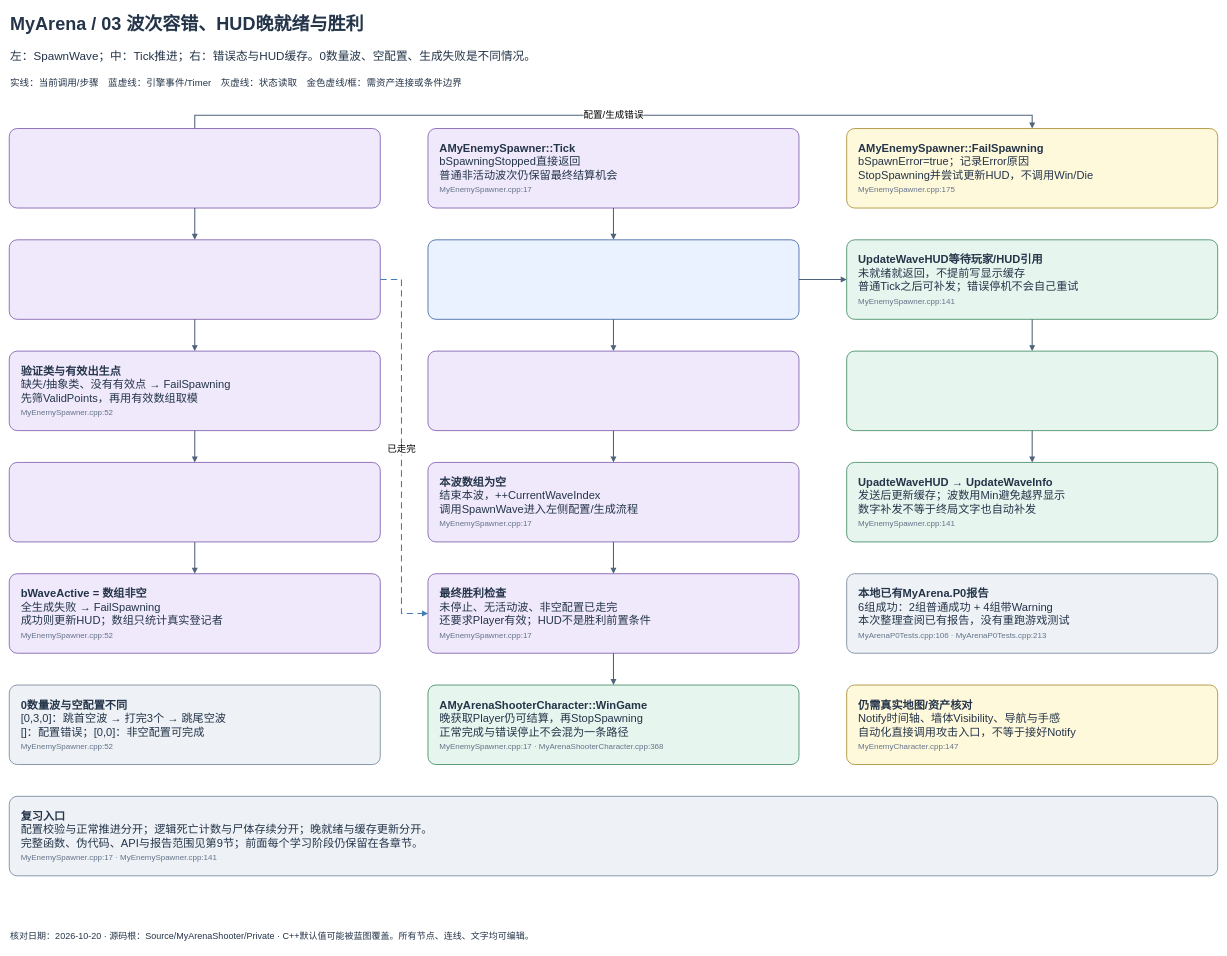
Some shapes in this 1227 by 956 pixel diagram are drawn without their labels. Each missing label, with the centre of its shape:
"AMyEnemySpawner::SpawnWave 已停止就返回；Waves为空报错 其余按配置依次校验与生成 MyEnemySpawner.cpp:52" goes at point 194,168.
"CleanupDeadEnemies（本波活动时） 倒序删除无效 / IsDead引用 循环后统一请求HUD更新 MyEnemySpawner.cpp:124" goes at point 613,390.
"while迭代跳过EnemyCount=0 配置非空且全部走完：返回后由Tick结算 负数量是错误，不作为空波跳过 MyEnemySpawner.cpp:52" goes at point 194,279.
"循环请求生成Enemy 有效、未销毁、未逻辑死亡才登记 部分成功Warning，按实际成功者继续 MyEnemySpawner.cpp:52" goes at point 194,502.
"比较接收者与显示数字 HUDPlayer弱引用、DisplayedWave/Enemies 新玩家或数字改变才发送 MyEnemySpawner.cpp:141" goes at point 1032,390.
"补取Player并检查活动状态 玩家不存在则保留后续重试机会 玩家已终局 → StopSpawning并返回 MyEnemySpawner.cpp:17" goes at point 613,279.
